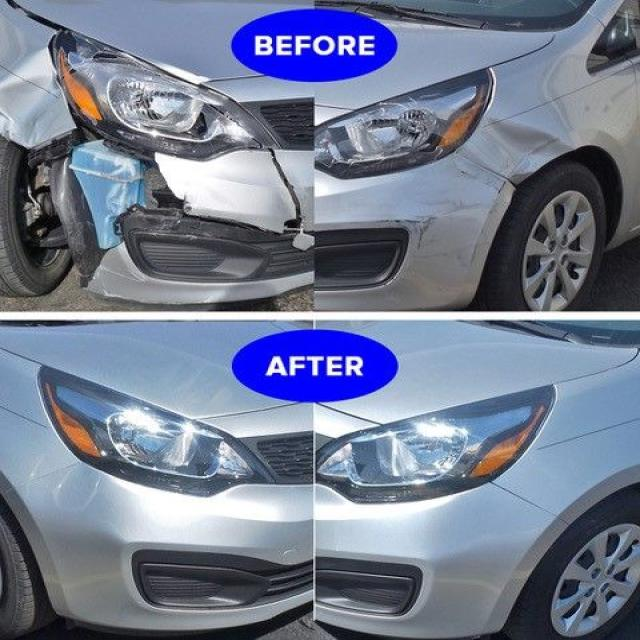crush: (0, 26, 317, 297)
dent: (458, 113, 577, 199)
scratch: (375, 196, 484, 249), (457, 164, 510, 194)
